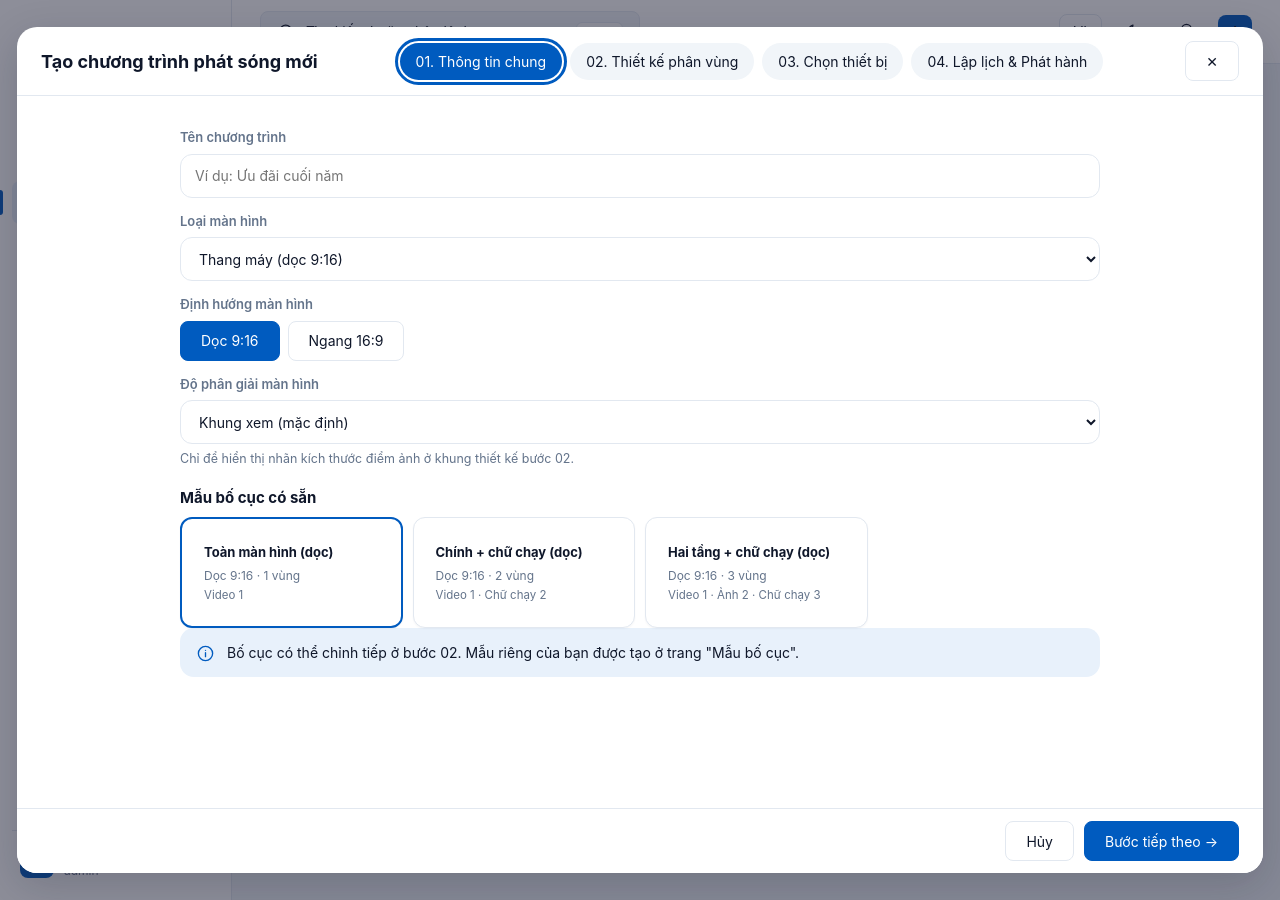
Test: Bước 2: thiết kế phân vùng › bố cục 3 cột: danh sách lớp, khung chuẩn DOOH đúng tỉ lệ, thêm thành phần + mẫu nhanh + xem trước + thuộc tính
The image size is (1280, 900).
Type "CT" into the field with placeholder "Ví dụ: Ưu đãi cuối năm" at (640, 176), box [180,154,1100,198]
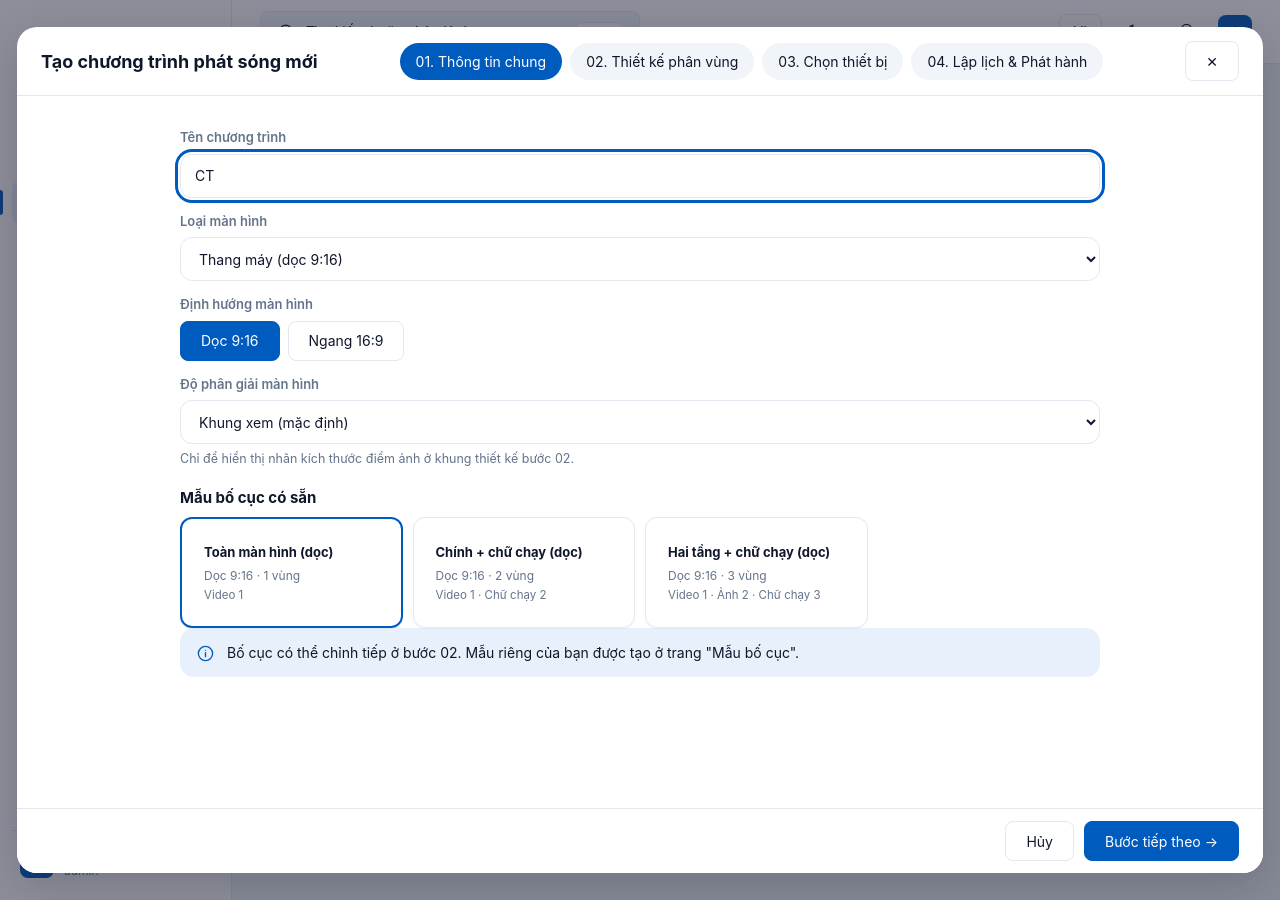
Click the button "Bước tiếp theo →" at (1162, 841), box [1084,821,1239,861]
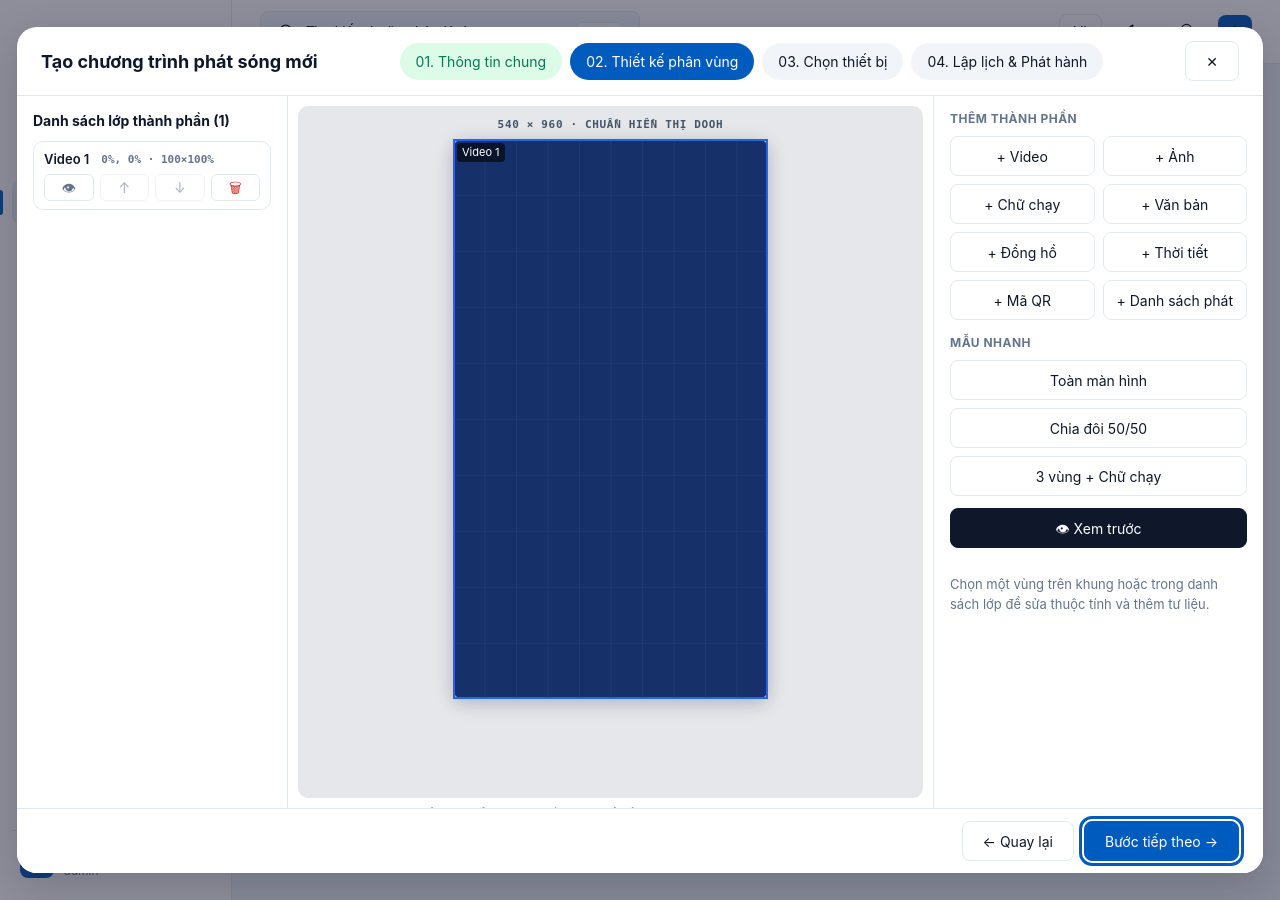
Now the heading "Thêm thành phần" is shown, box [950,111,1077,126]
Now the heading "Danh sách lớp thành phần (1)" is shown, box [33,112,230,129]
Now the text "540 × 960 · CHUẨN HIỂN THỊ DOOH" is shown, box [498,118,723,131]
